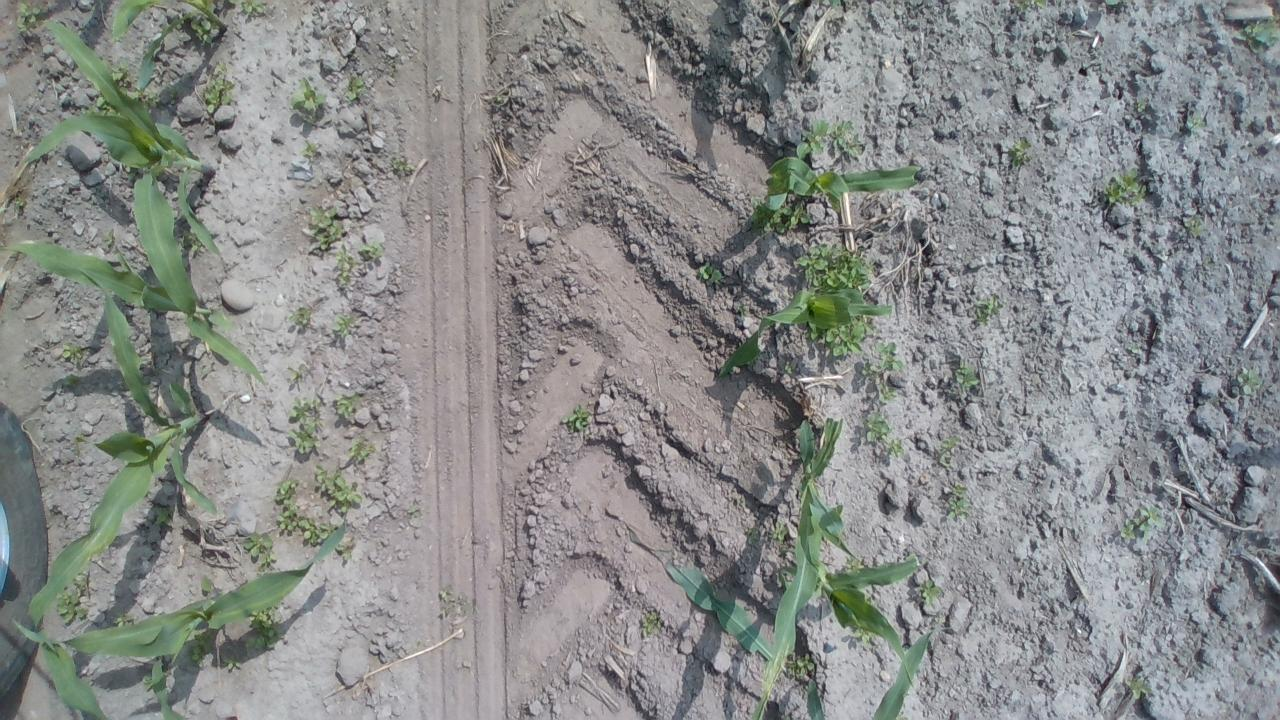Maize: (29, 268, 214, 630), (18, 18, 223, 315), (9, 524, 346, 666), (0, 236, 269, 386), (747, 418, 845, 718), (792, 542, 918, 688), (718, 288, 894, 373), (801, 627, 935, 720), (40, 645, 192, 720), (112, 0, 225, 89), (765, 158, 921, 208)
Weeds: (796, 243, 877, 292), (806, 314, 878, 358), (748, 195, 814, 238), (794, 119, 862, 160), (313, 463, 364, 514), (109, 64, 161, 114), (244, 604, 287, 656), (285, 398, 322, 456), (289, 75, 326, 129), (1235, 10, 1280, 53), (864, 412, 906, 458), (1102, 166, 1148, 207), (201, 61, 236, 113), (308, 204, 348, 249), (242, 532, 282, 574), (272, 477, 302, 532), (861, 342, 904, 376), (190, 0, 221, 46), (299, 512, 341, 545), (1120, 506, 1161, 537), (187, 626, 214, 670), (56, 590, 89, 626), (336, 248, 360, 290), (1236, 367, 1266, 399), (14, 0, 41, 35), (560, 402, 590, 433), (938, 436, 962, 472), (974, 296, 1003, 325), (954, 360, 982, 390), (946, 484, 968, 522), (348, 432, 376, 461), (225, 0, 272, 17), (176, 224, 204, 252), (786, 653, 816, 679), (1009, 135, 1033, 167), (918, 579, 944, 607), (335, 391, 360, 419), (1123, 676, 1152, 700), (61, 340, 88, 364), (696, 264, 724, 286), (640, 610, 661, 638), (776, 561, 797, 589), (287, 306, 313, 328), (88, 96, 116, 116), (847, 624, 877, 642), (358, 241, 386, 259), (332, 313, 353, 337), (344, 78, 365, 100), (768, 522, 789, 544), (876, 382, 896, 404), (153, 505, 171, 528), (1184, 217, 1202, 238), (198, 576, 216, 597), (113, 612, 136, 628), (392, 158, 416, 172), (1012, 0, 1048, 9), (301, 139, 320, 156), (287, 364, 306, 381), (744, 526, 760, 546), (336, 540, 352, 560), (73, 570, 89, 590), (222, 654, 240, 671), (784, 360, 801, 377), (736, 302, 751, 321), (164, 84, 178, 104), (844, 558, 864, 572), (102, 230, 115, 250), (62, 374, 80, 388), (439, 590, 456, 604), (71, 434, 89, 447), (1190, 116, 1206, 129), (143, 672, 152, 690), (820, 0, 840, 8), (1135, 100, 1148, 112), (408, 506, 418, 520), (15, 195, 26, 207), (1128, 345, 1140, 355), (1104, 0, 1121, 5), (492, 95, 502, 102)
